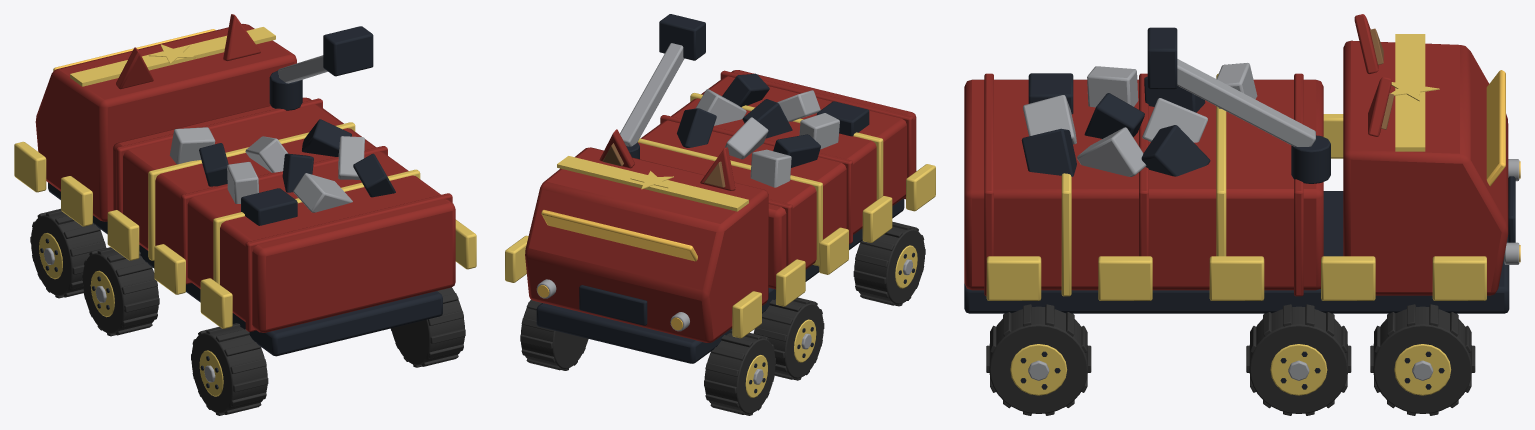
The model's file is baeren_kipper.glb.
3 renders of one model, left to right at view 1: azimuth 30°, elevation 25°; view 2: azimuth 150°, elevation 25°; view 3: azimuth 270°, elevation 25°, orthographic. The views are drawn at different scales.
Parts seen in each view (by area): view 1: bin, cab, frame, wheel_-1_1, wheel_-1_2, wheel_-1_0, wheel_1_1, cab_roof_stripe, claw, rib_0, scrap_0, scrap_1 (+26 smaller); view 2: cab, bin, frame, wheel_-1_0, wheel_-1_1, cab_roof_stripe, wheel_-1_2, cab_window, arm, wheel_1_0, grill, claw (+26 smaller); view 3: bin, cab, frame, wheel_1_2, wheel_1_0, wheel_1_1, arm, cab_roof_stripe, era_1_0, era_1_2, era_1_1, era_1_3 (+27 smaller).
Part boxes in pixels (x1,y1,x2,y2): bin: (113, 97, 455, 332); cab: (35, 24, 296, 221); frame: (48, 182, 442, 356); wheel_-1_1: (191, 327, 267, 413); wheel_-1_2: (82, 251, 158, 333); wheel_-1_0: (31, 213, 103, 296); wheel_1_1: (391, 287, 464, 365); cab_roof_stripe: (70, 27, 275, 86); claw: (323, 26, 373, 76); rib_0: (245, 193, 452, 331); scrap_0: (241, 188, 297, 225); scrap_1: (293, 173, 352, 212); cab: (525, 147, 768, 342); bin: (638, 70, 916, 289); frame: (536, 198, 904, 363); wheel_-1_0: (704, 333, 775, 413); wheel_-1_1: (854, 226, 924, 304); cab_roof_stripe: (557, 156, 748, 211); wheel_-1_2: (757, 299, 823, 378); cab_window: (541, 210, 697, 261); arm: (620, 43, 684, 146); wheel_1_0: (520, 299, 588, 368); grill: (579, 285, 647, 325); claw: (659, 14, 705, 60); bin: (964, 79, 1323, 290); cab: (1343, 40, 1508, 295); frame: (964, 191, 1509, 313); wheel_1_2: (1249, 306, 1348, 413); wheel_1_0: (1373, 306, 1471, 413); wheel_1_1: (989, 306, 1087, 413); arm: (1177, 59, 1315, 146); cab_roof_stripe: (1395, 34, 1425, 151); era_1_0: (986, 256, 1041, 300); era_1_2: (1209, 256, 1264, 300); era_1_1: (1098, 256, 1152, 300); era_1_3: (1321, 256, 1375, 300).
Bounding box in the file's own units: 1.92 × 2.12 × 3.03.
